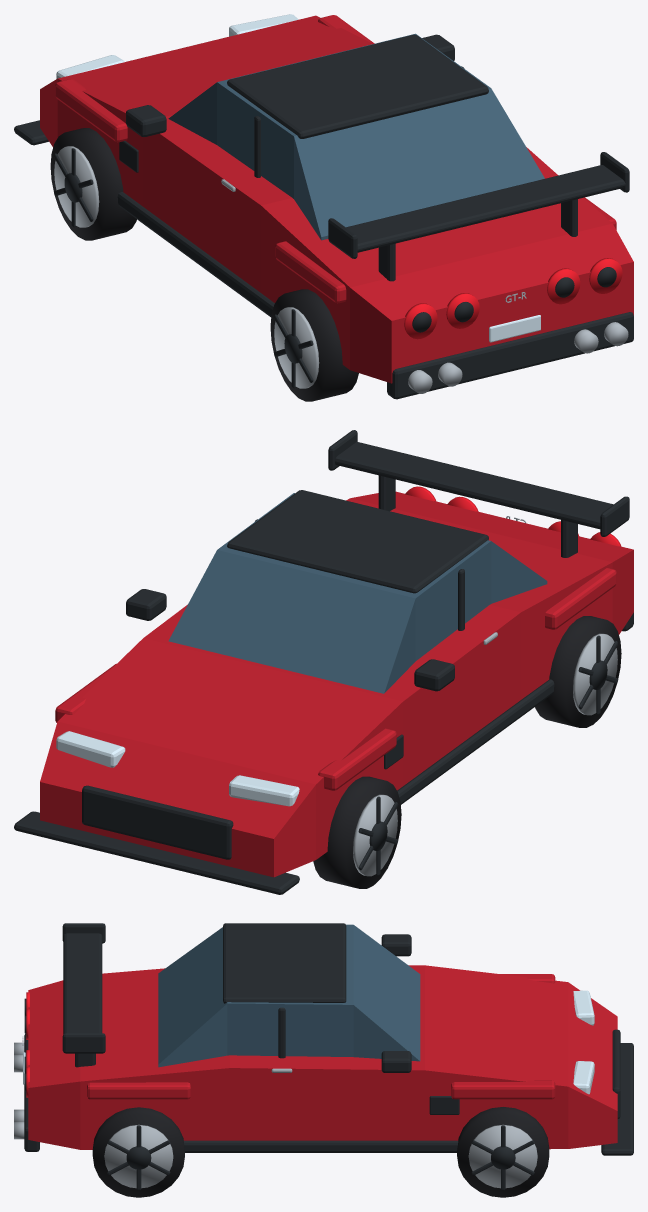
The model's file is gtr.glb.
3 renders of one model, top to bottom at view 1: azimuth 30°, elevation 25°; view 2: azimuth 150°, elevation 25°; view 3: azimuth 270°, elevation 25°, orthographic. The views are drawn at different scales.
Parts seen in each view (by area): view 1: GT-R GT-R metallic crimson, GT-R Carbon and grille, GT-R Smoked glass, Tire.001, Tire, GT-R Circular red tail lamps, GT-R LED headlamps, GT-R Forged alloy, Alloy rim, Alloy rim.001, Wheel hub, Wheel hub.001; view 2: GT-R GT-R metallic crimson, GT-R Carbon and grille, GT-R Smoked glass, Tire, Tire.001, GT-R LED headlamps, Alloy rim.001, Alloy rim, Wheel hub, Wheel hub.001, GT-R Circular red tail lamps; view 3: GT-R GT-R metallic crimson, GT-R Carbon and grille, GT-R Smoked glass, Tire.002, Tire.003, Alloy rim.003, Alloy rim.002, GT-R LED headlamps, Wheel hub.003, Wheel hub.002, GT-R Forged alloy.
Part boxes in pixels (box(x1,y1,x2,y2)): GT-R GT-R metallic crimson: box(40, 15, 633, 383); GT-R Carbon and grille: box(14, 34, 633, 399); GT-R Smoked glass: box(168, 33, 544, 240); Tire.001: box(270, 289, 358, 401); Tire: box(50, 128, 136, 240); GT-R Circular red tail lamps: box(404, 258, 622, 339); GT-R LED headlamps: box(56, 14, 540, 342); GT-R Forged alloy: box(221, 179, 628, 393); Alloy rim: box(54, 146, 99, 227); Alloy rim.001: box(274, 307, 319, 388); Wheel hub: box(54, 148, 93, 227); Wheel hub.001: box(274, 309, 313, 388); GT-R GT-R metallic crimson: box(40, 491, 633, 877); GT-R Carbon and grille: box(14, 430, 633, 894); GT-R Smoked glass: box(168, 493, 547, 693); Tire: box(313, 776, 401, 888); Tire.001: box(535, 616, 621, 727); GT-R LED headlamps: box(56, 731, 299, 806); Alloy rim.001: box(573, 633, 617, 715); Alloy rim: box(353, 794, 397, 876); Wheel hub: box(358, 796, 398, 875); Wheel hub.001: box(578, 635, 617, 714); GT-R Circular red tail lamps: box(405, 486, 621, 546); GT-R GT-R metallic crimson: box(28, 965, 617, 1149); GT-R Carbon and grille: box(24, 923, 633, 1155); GT-R Smoked glass: box(158, 924, 420, 1067); Tire.002: box(457, 1107, 549, 1197); Tire.003: box(92, 1107, 184, 1197); Alloy rim.003: box(104, 1124, 173, 1188); Alloy rim.002: box(468, 1124, 537, 1188); GT-R LED headlamps: box(23, 990, 594, 1094); Wheel hub.003: box(107, 1125, 170, 1190); Wheel hub.002: box(471, 1125, 534, 1190); GT-R Forged alloy: box(14, 1036, 292, 1139).
Size of the model in its own units: 2.31 by 1.51 by 4.76.
